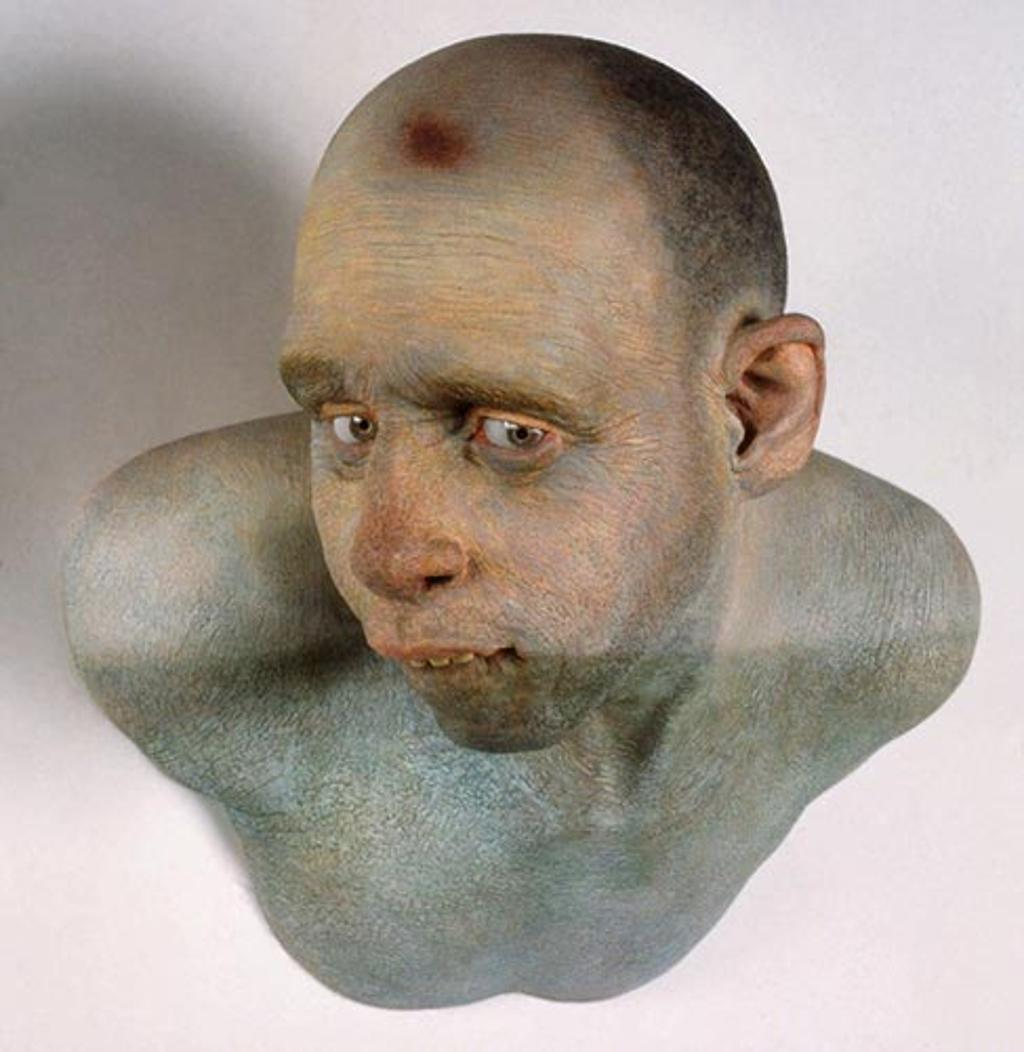face: (301, 272, 640, 746)
